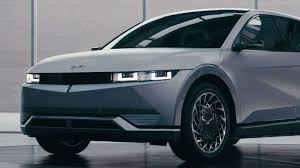Honda Ioniq: (17, 8, 300, 168)
